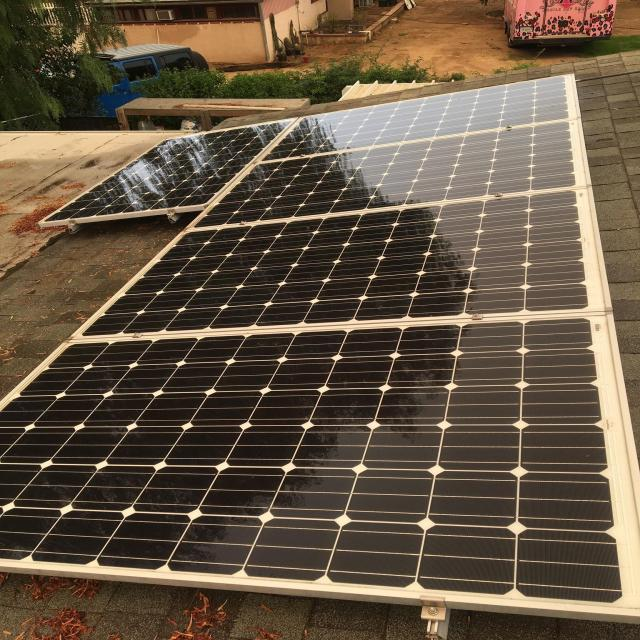clean-solar-panel: (0, 74, 638, 621)
